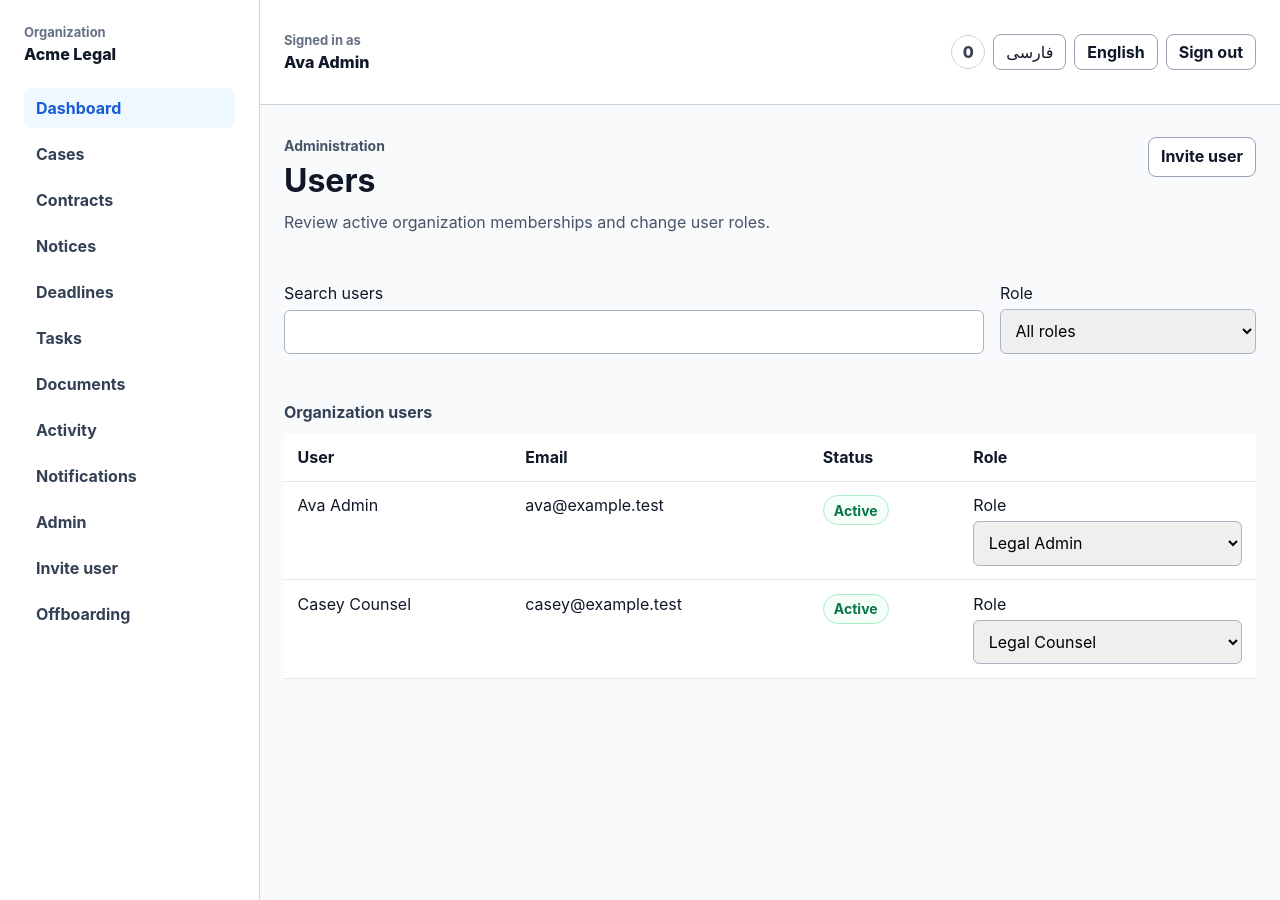
role change posts the selected canonical value
Expected: the text "Casey Counsel" is shown, left=284, top=580, right=512, bottom=678
Select "Legal Manager" in the dropdown named "Casey Counsel Role" at (1108, 642), box left=973, top=620, right=1242, bottom=664
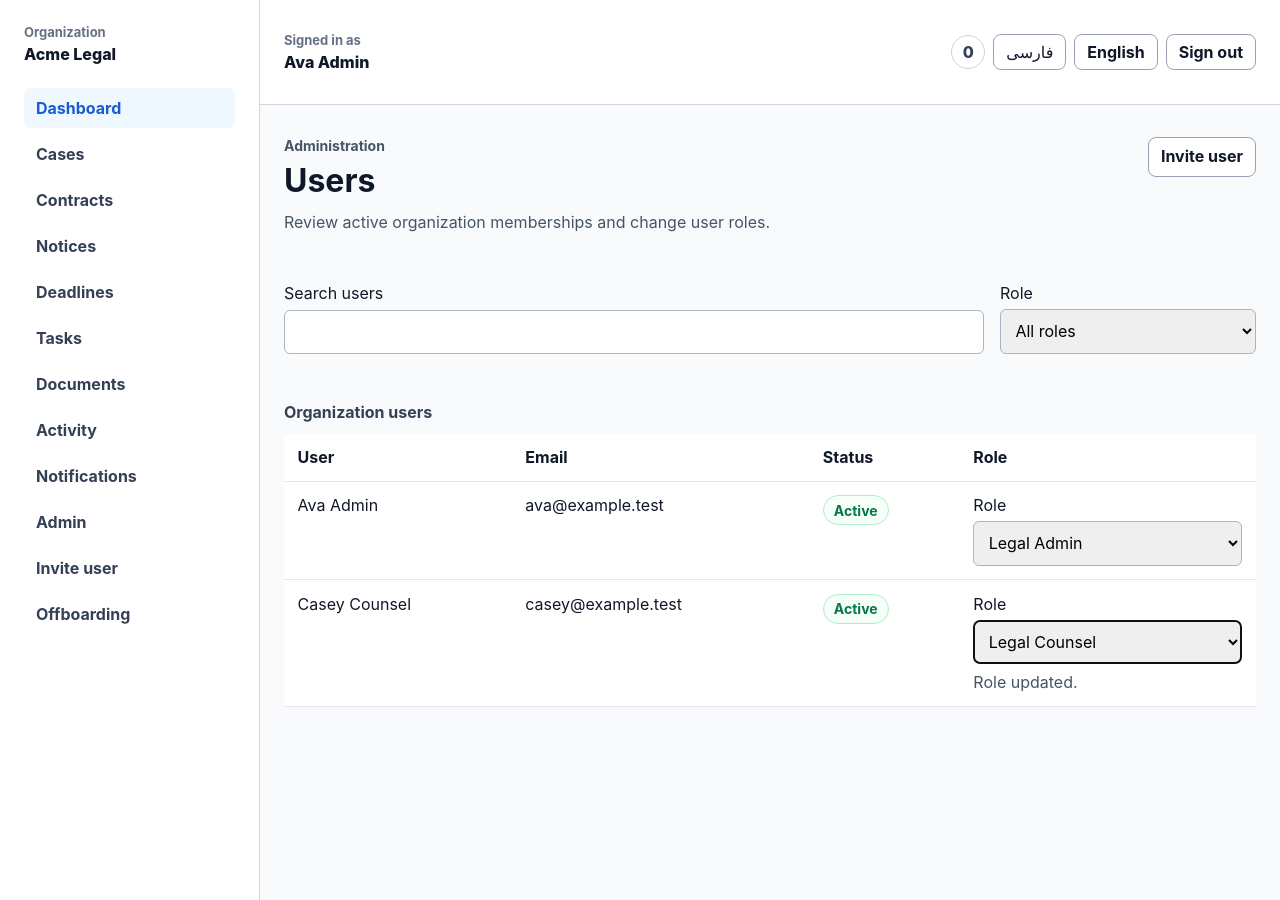
Now the message reads "Role updated.", box left=973, top=672, right=1078, bottom=692
